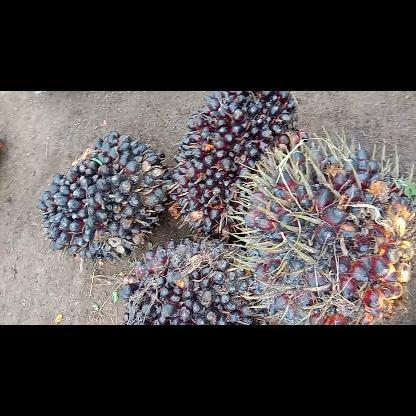TBS mentah: (235, 136, 415, 324), (166, 91, 312, 241), (32, 127, 174, 262), (115, 234, 273, 324)
